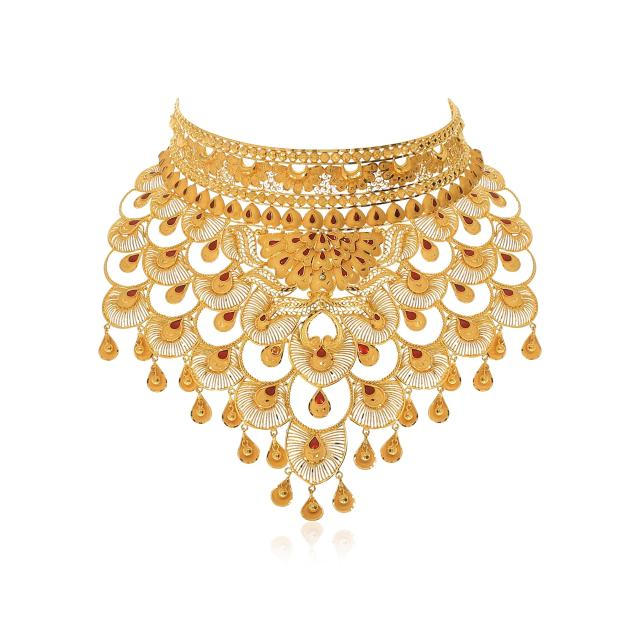missing gem: (271, 343, 282, 355), (320, 271, 325, 279)
